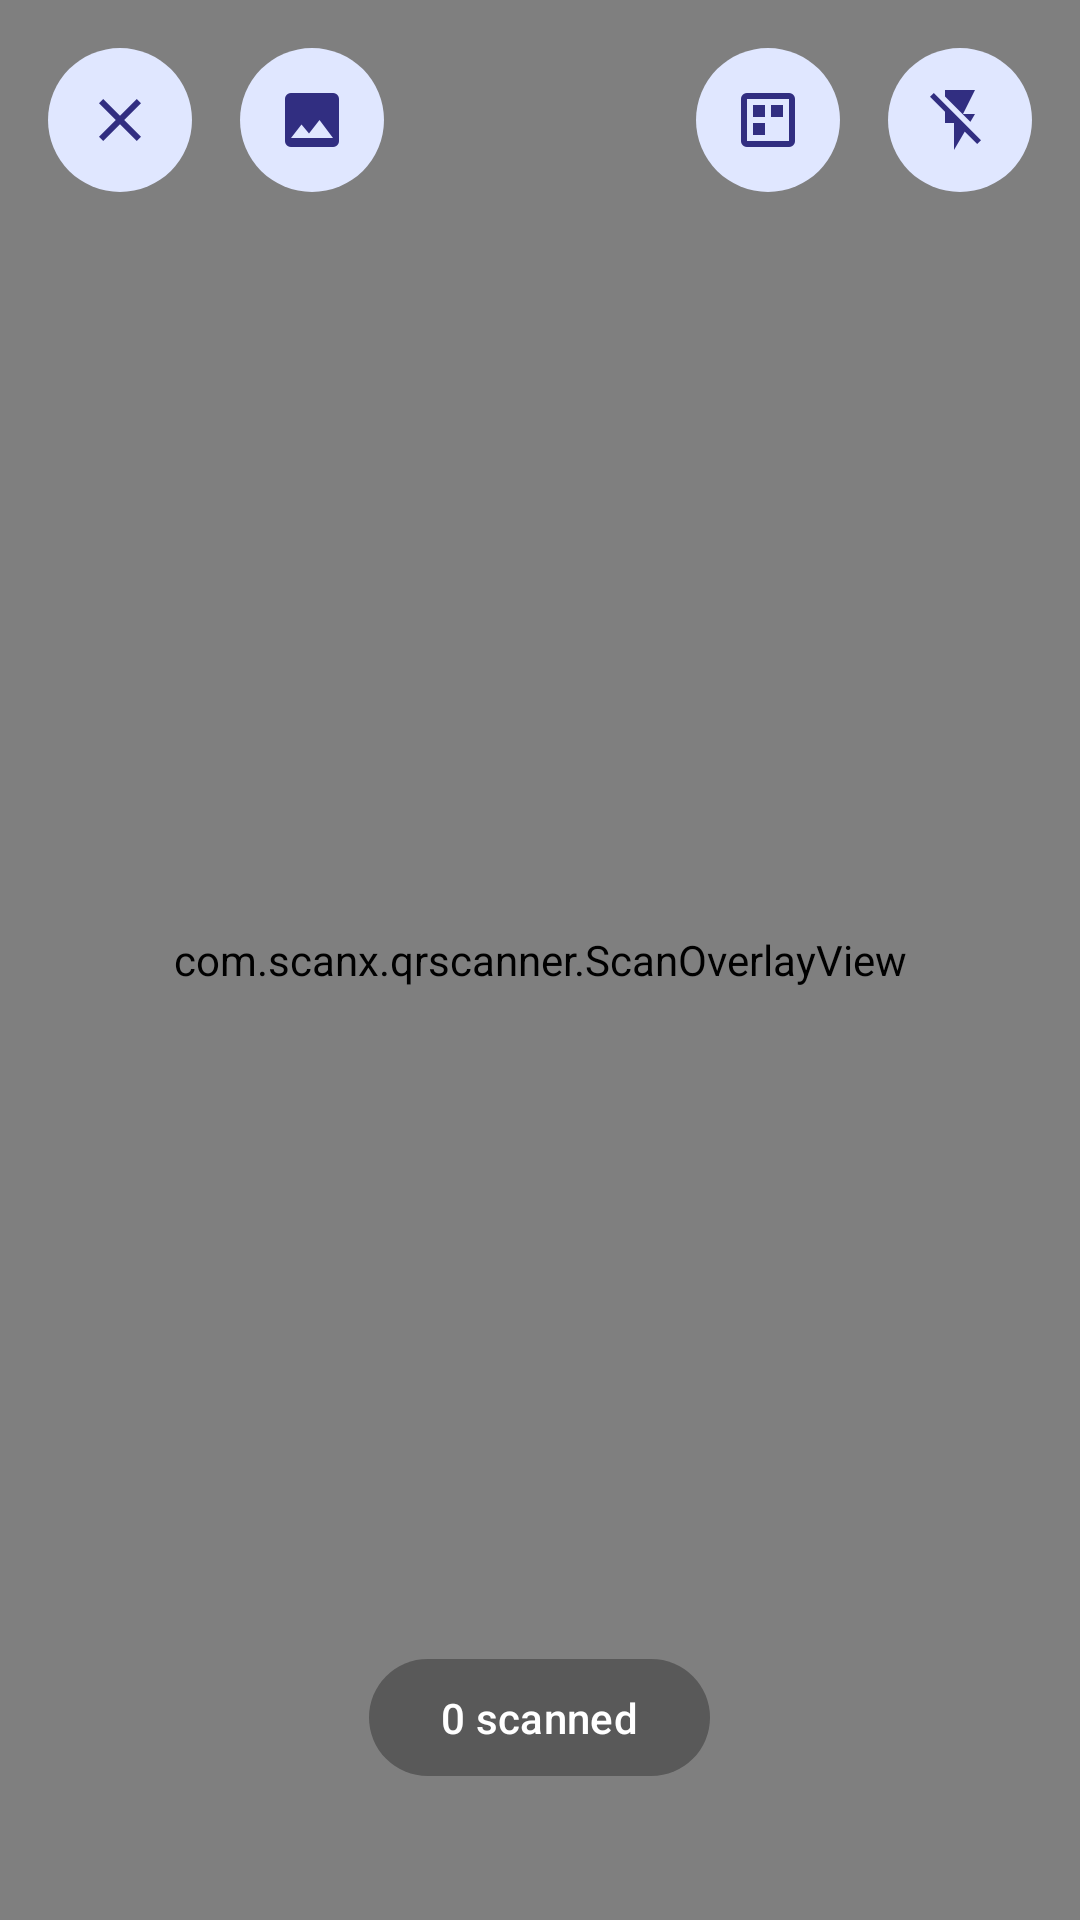

Locate icon controls on the screen. Image size 1080x1920, boxes as (x1, y1, x2, y2).
close: (48, 48, 192, 192)
flash off: (888, 48, 1032, 192)
multi scan off: (696, 48, 840, 192)
